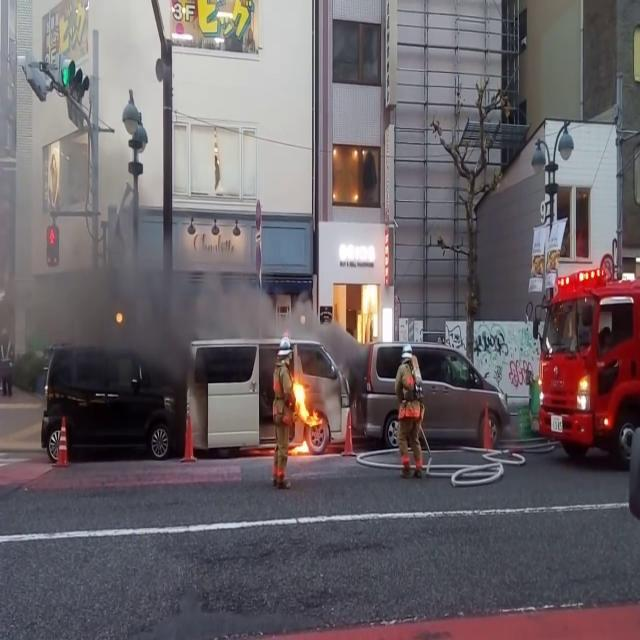Fire: (286, 367, 324, 452), (354, 260, 386, 344)
Smoke: (2, 157, 279, 377)
